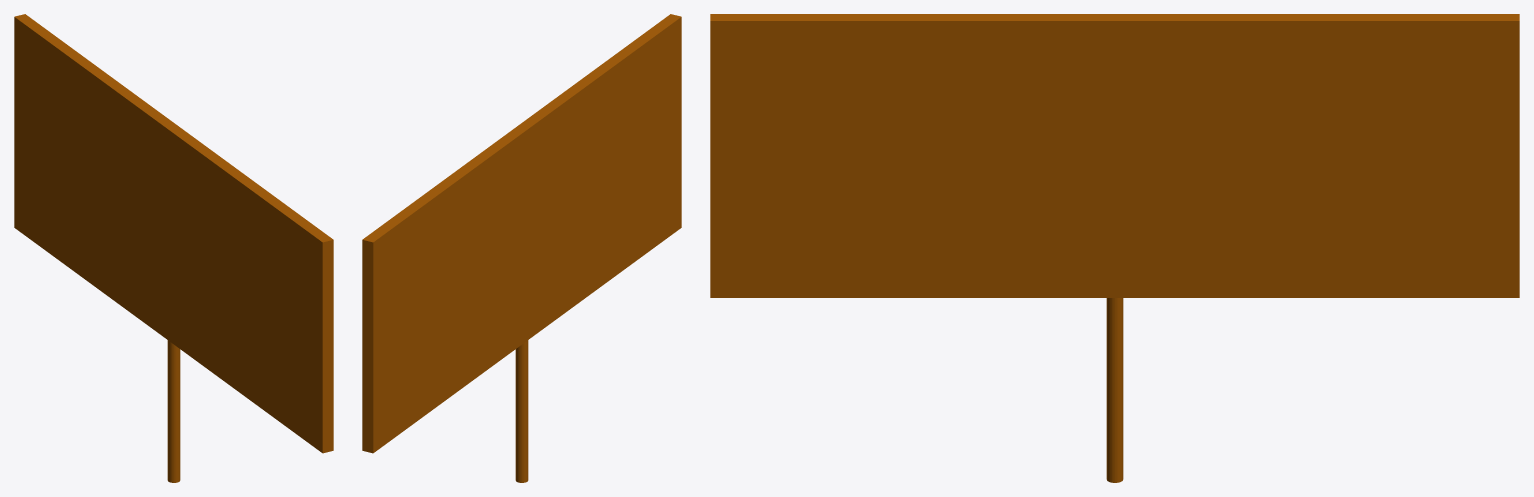
File: kanban.fbx
The picture shows the model from 3 angles, left to right: view 1: azimuth 30°, elevation 25°; view 2: azimuth 150°, elevation 25°; view 3: azimuth 270°, elevation 25°; orthographic projection. The views are drawn at different scales.
Parts seen in each view (by area): view 1: 立方体, 円柱; view 2: 立方体, 円柱; view 3: 立方体, 円柱.
Part boxes in pixels (x1=…): 立方体: x1=14, y1=14, x2=333, y2=453; 円柱: x1=167, y1=340, x2=180, y2=482; 立方体: x1=362, y1=14, x2=681, y2=453; 円柱: x1=515, y1=340, x2=528, y2=482; 立方体: x1=710, y1=14, x2=1519, y2=297; 円柱: x1=1106, y1=298, x2=1123, y2=482.
Bounding box in the file's own units: 18.08 × 551 × 875.
